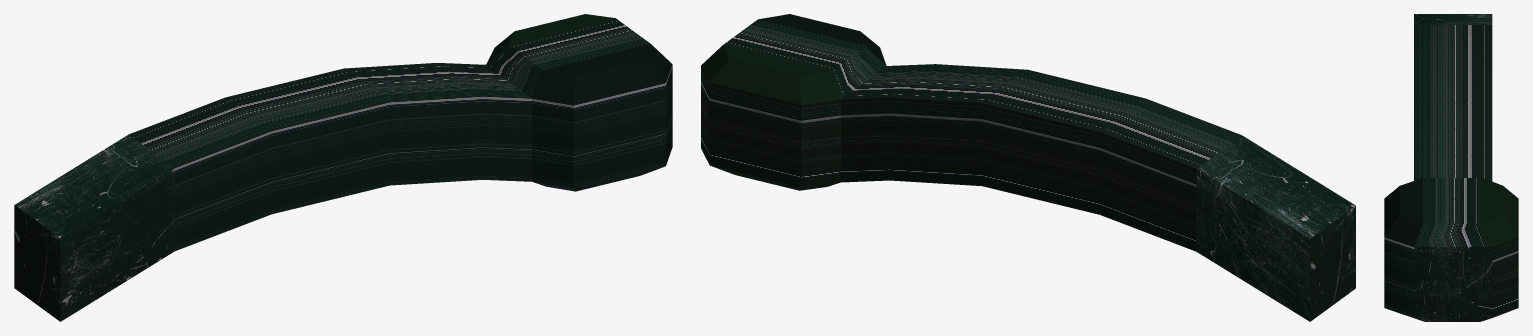
File: lamp.obj
The picture shows the model from 3 angles, left to right: view 1: azimuth 30°, elevation 25°; view 2: azimuth 150°, elevation 25°; view 3: azimuth 270°, elevation 25°; orthographic projection. The views are drawn at different scales.
Visible parts, largest first — view 1: lamp:pCube1; view 2: lamp:pCube1; view 3: lamp:pCube1.
Part boxes in pixels (x1,y1,x2,y2): lamp:pCube1: [14, 14, 672, 321]; lamp:pCube1: [701, 14, 1355, 321]; lamp:pCube1: [1384, 14, 1518, 321].
Bounding box in the file's own units: 7.68 × 1.67 × 1.72.
